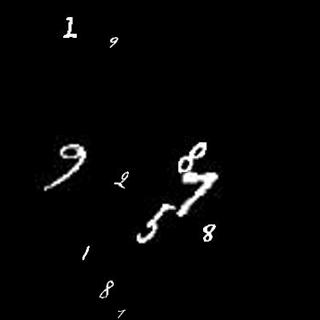eight: (174, 139, 206, 171), (98, 277, 113, 300), (200, 223, 216, 242)
five: (137, 202, 176, 246)
nine: (44, 140, 83, 192), (108, 36, 118, 49)
one: (62, 15, 78, 42), (81, 243, 90, 261)
seven: (177, 172, 220, 218), (114, 305, 127, 318)
two: (114, 167, 129, 189)
